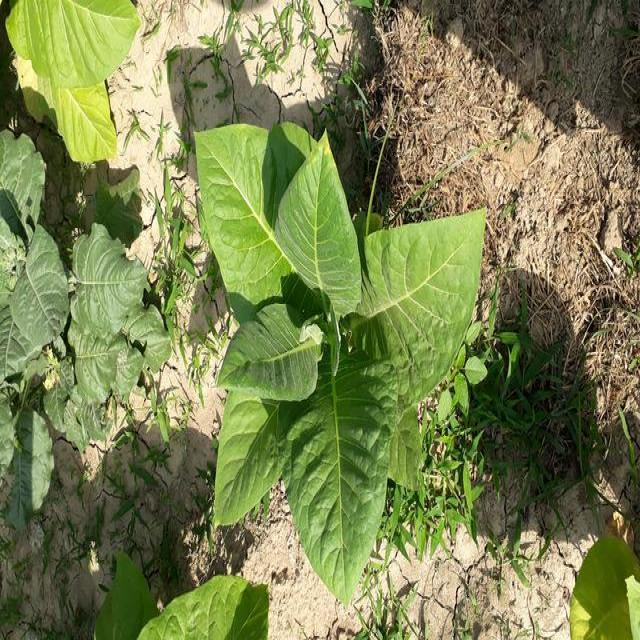crop: (186, 123, 456, 599), (6, 0, 132, 168)
